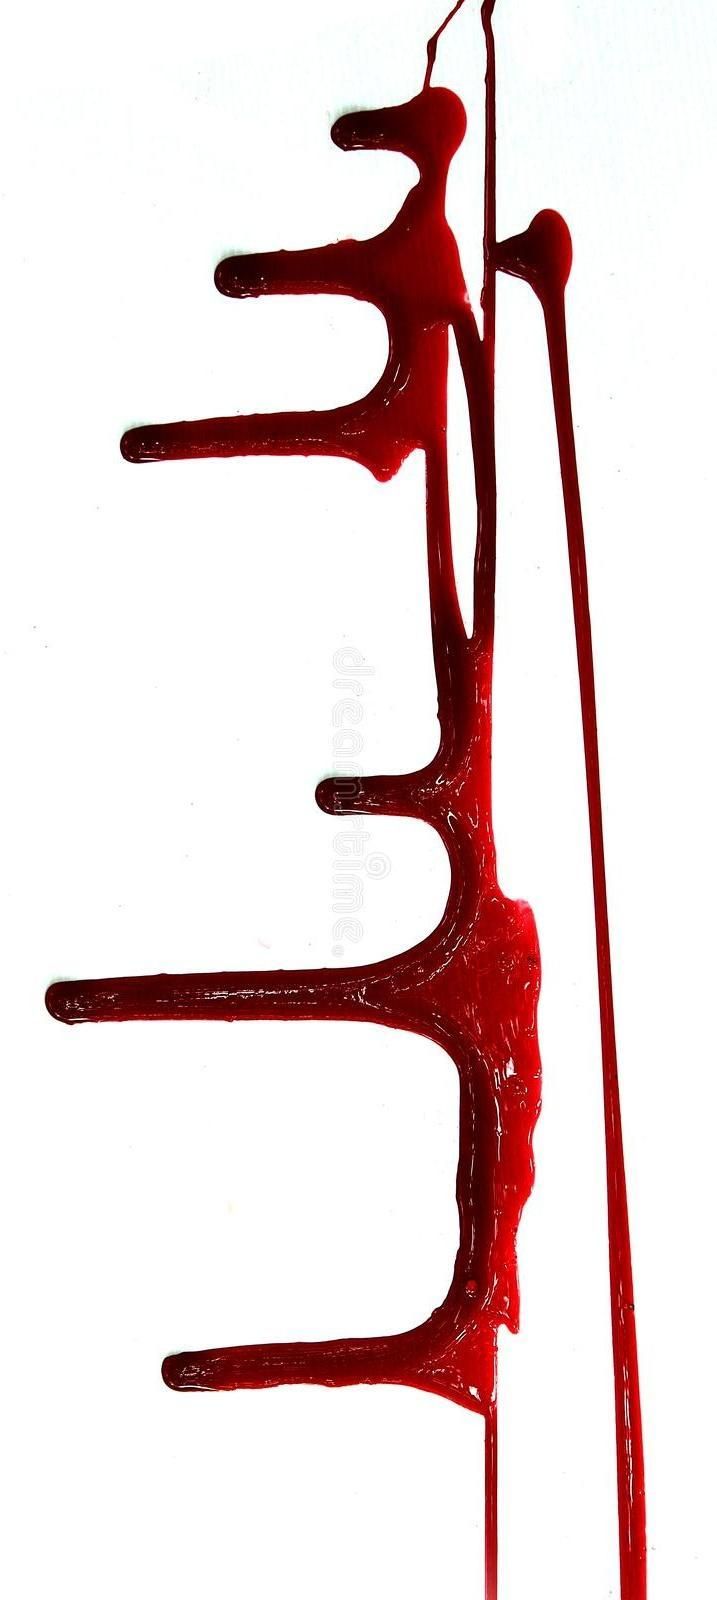Fire: (44, 0, 647, 1598)
